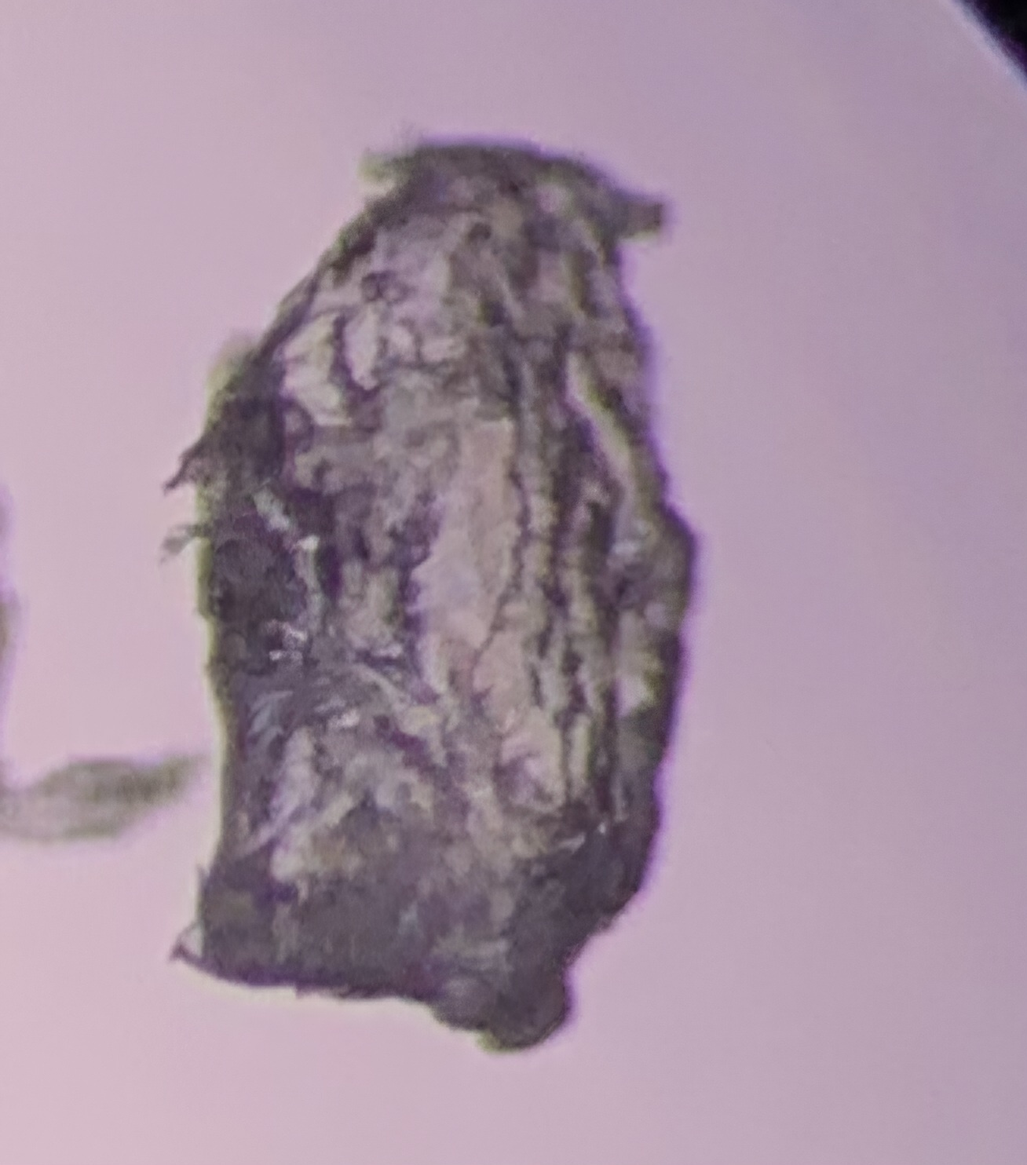microplastic: (161, 131, 700, 1056), (1, 751, 213, 846)
